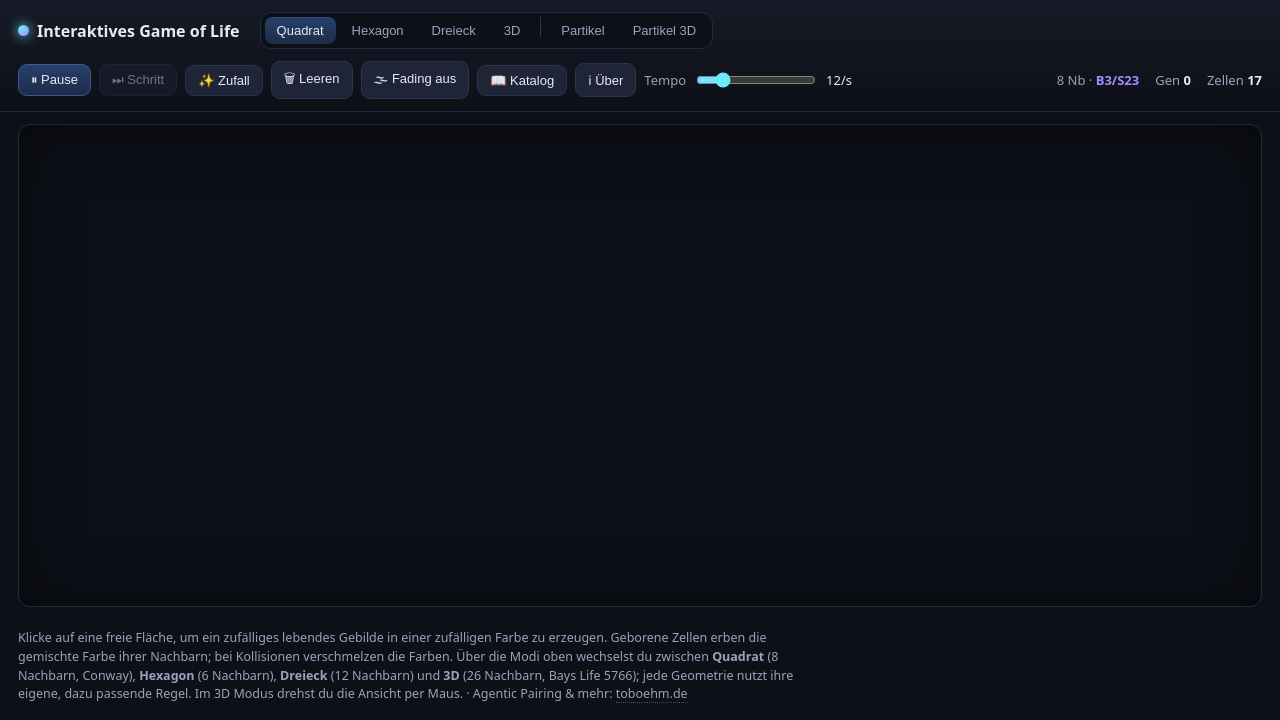
Test: App UI › toggles the fading control
The width and height of the screenshot is (1280, 720).
Click the button "🌫 Fading aus" at (415, 80), box [361,61,469,99]
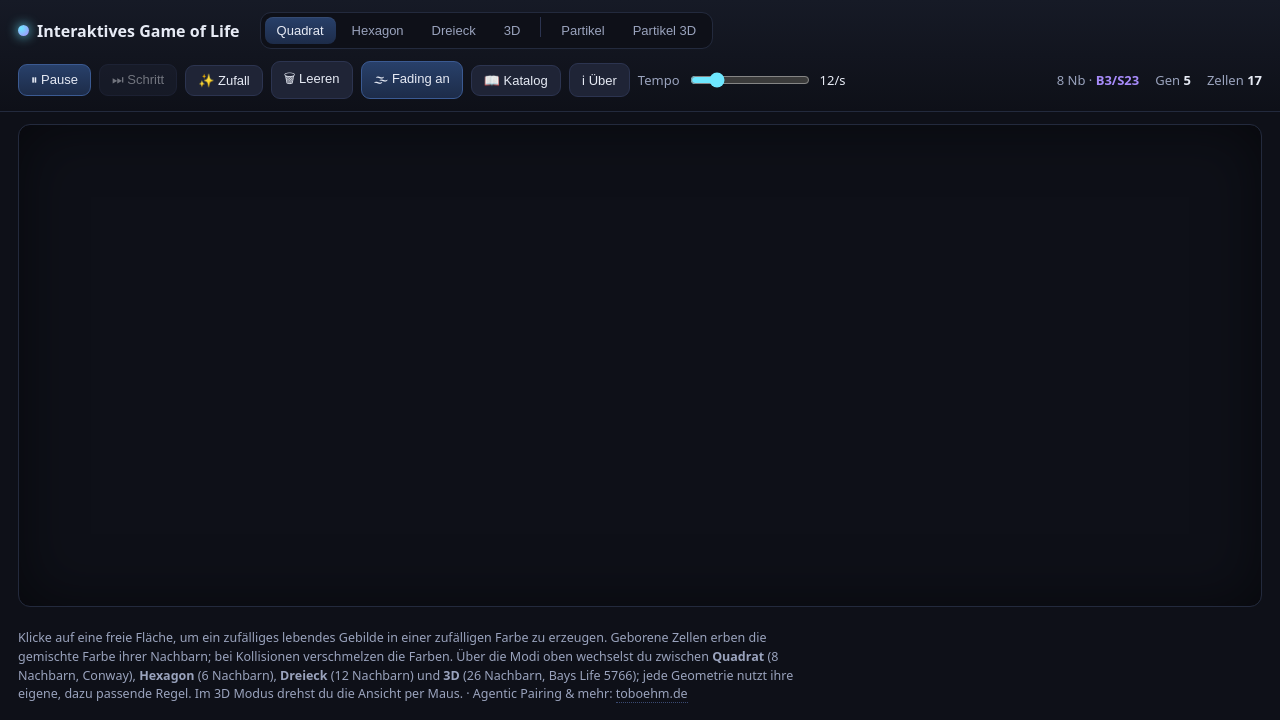
Check: the button "🌫 Fading an" is shown, box [361,61,463,99]
